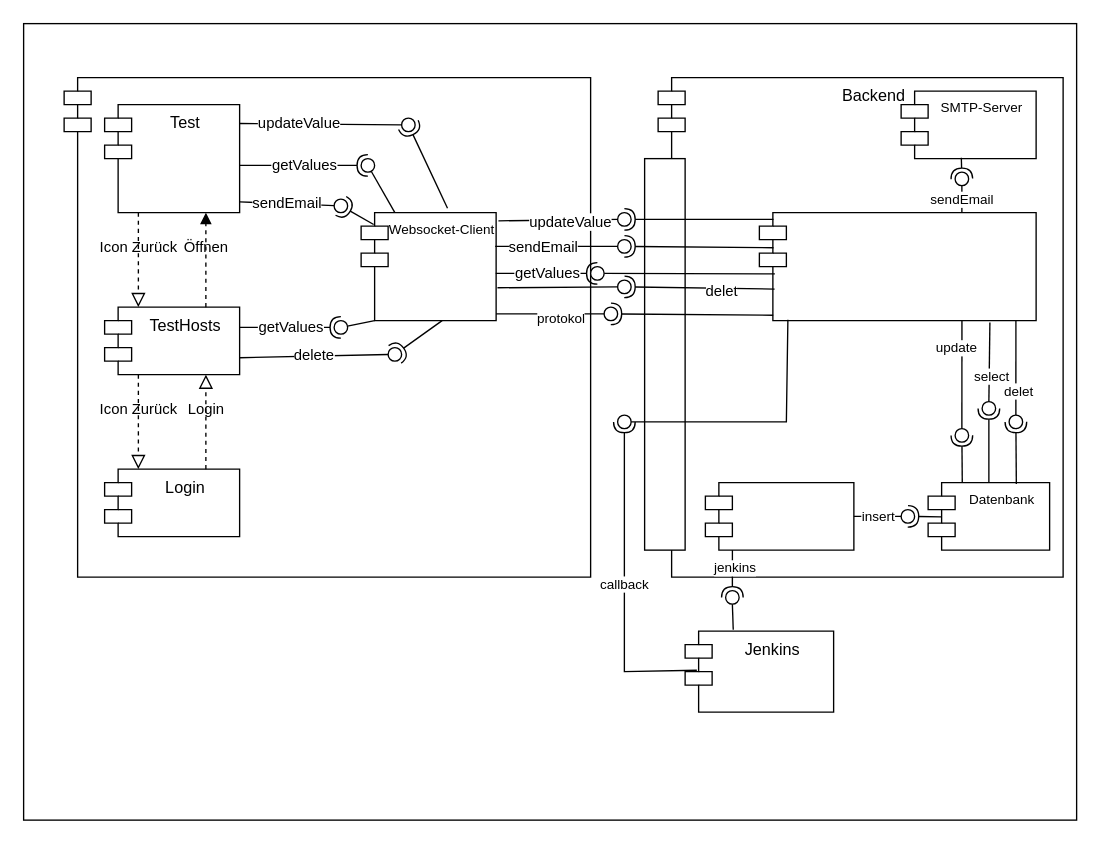
Some shapes in this 1100 by 844 pixel diagram are drawn without their labels. The shapes that lost their labels are listed below. From the top down, each one's box as (x1, y1, x2, y2) in pixels, then its label:
(758, 211, 1036, 321): Websocket-Server
(63, 76, 591, 577): Forntend
(643, 157, 685, 550): prot 3000
(704, 481, 854, 550): HTTP-Server
